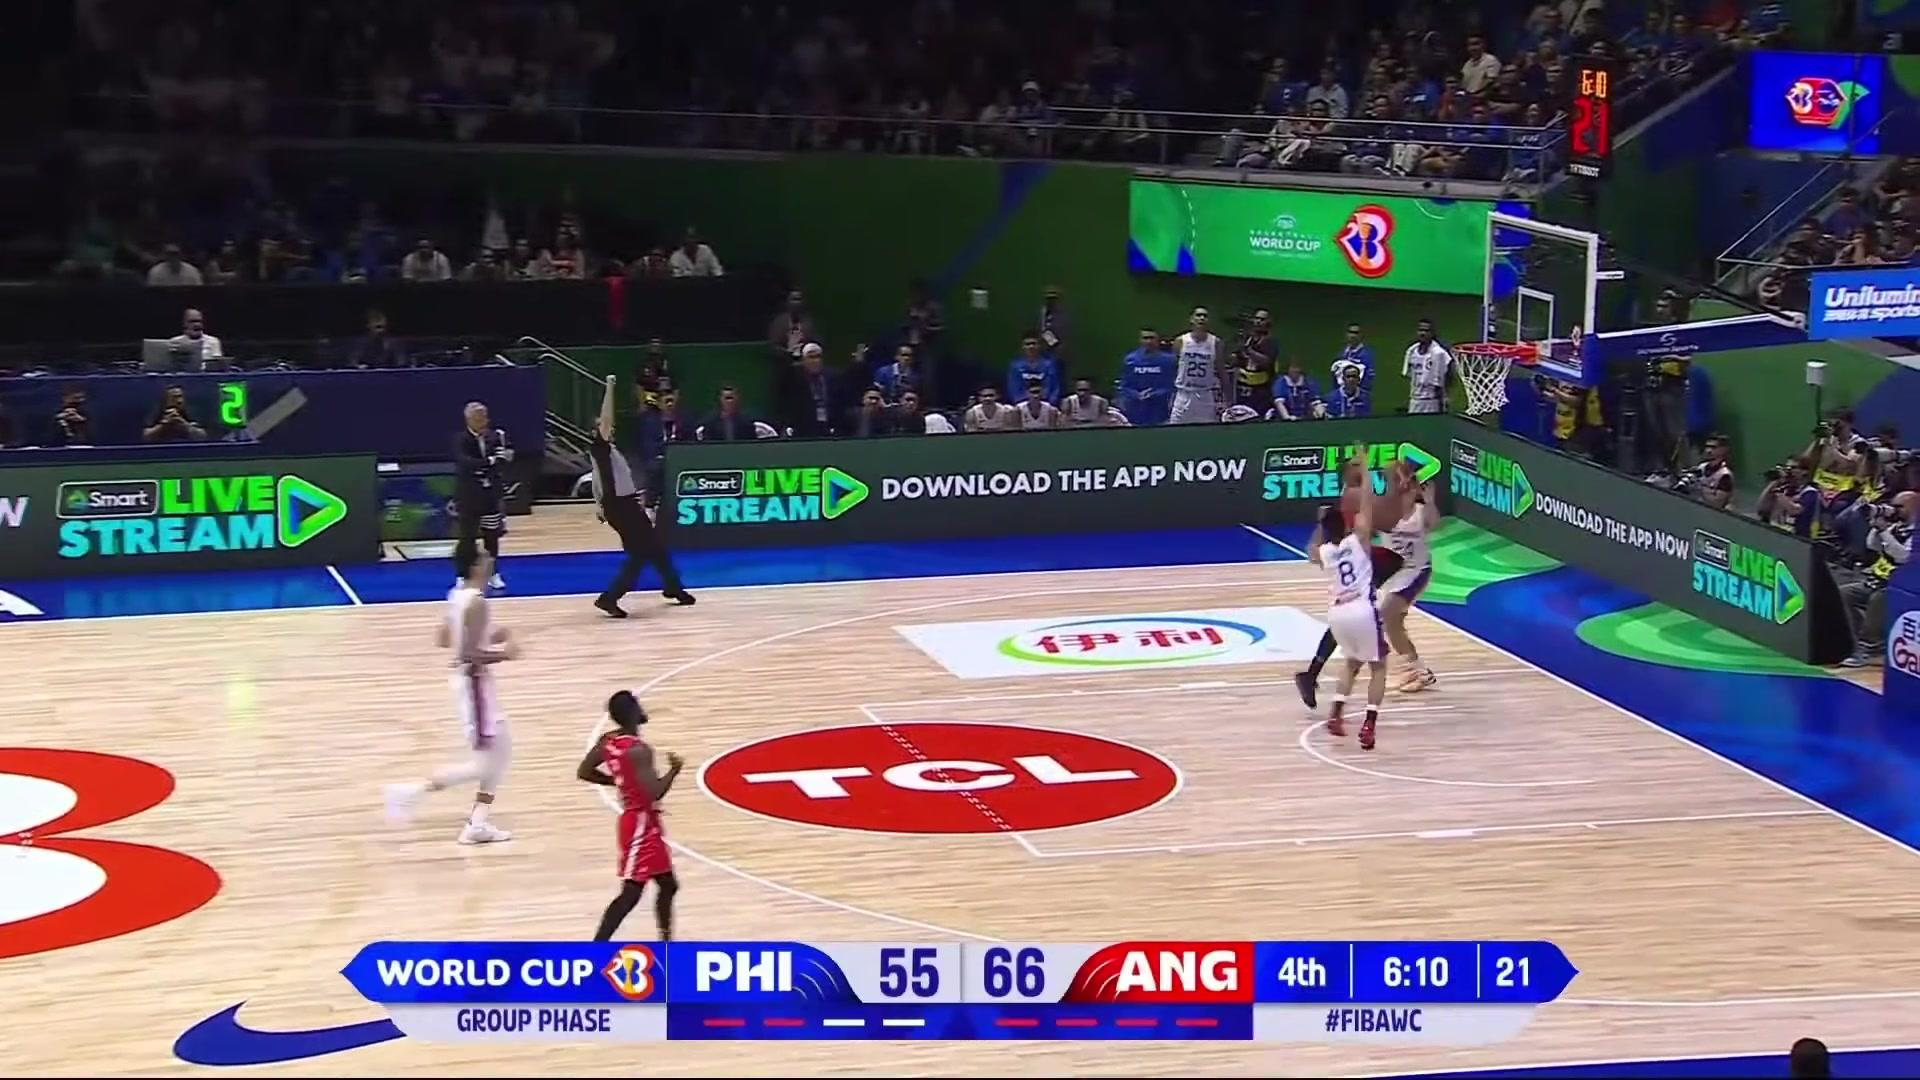foul: (1274, 446, 1465, 748)
